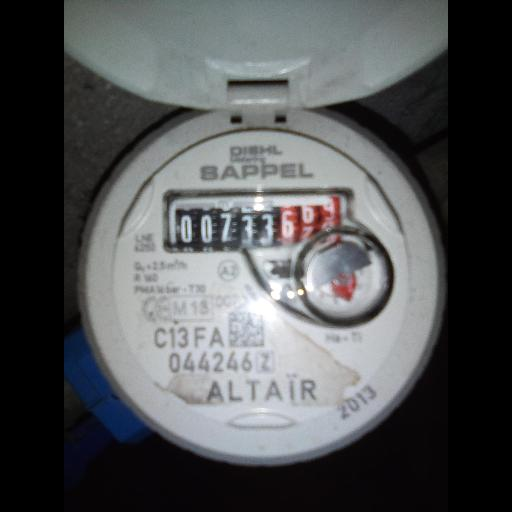0: (176, 207, 199, 246), (197, 206, 217, 246)
3: (257, 206, 279, 247), (238, 206, 259, 247)
6: (277, 205, 300, 247), (300, 204, 321, 243)
7: (216, 206, 238, 246)
9: (319, 197, 341, 233)
border_water_meter_number: (168, 193, 363, 252)
